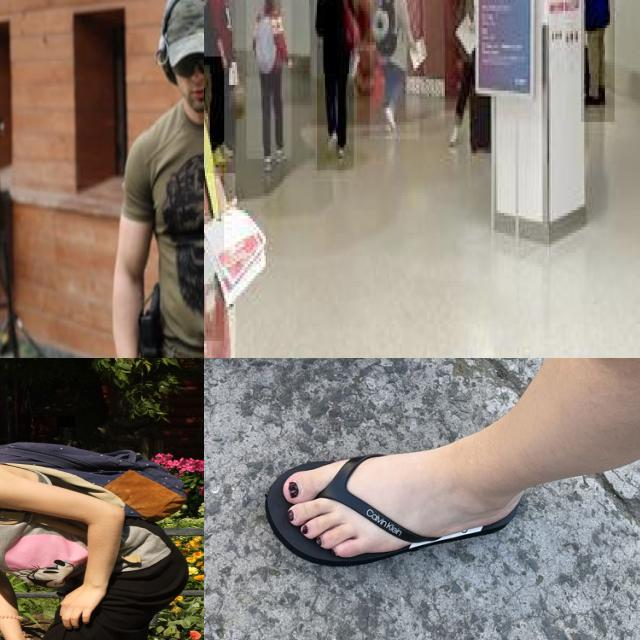Ear-protection: (153, 0, 204, 126)
Sandals: (204, 358, 564, 601)
head_nohelmet: (257, 0, 278, 11)
person: (246, 0, 293, 162), (370, 0, 421, 142), (316, 0, 355, 173), (204, 0, 235, 173), (581, 0, 616, 124)
shoes: (381, 99, 399, 139), (445, 118, 464, 152), (272, 138, 288, 166), (333, 140, 347, 172), (260, 148, 275, 176), (323, 132, 337, 157)
